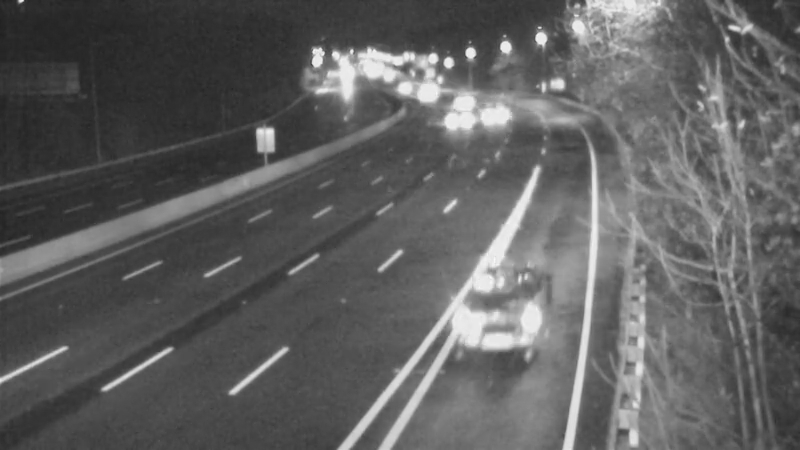vehicle: (439, 274, 549, 384), (374, 61, 424, 111), (403, 71, 453, 121), (431, 76, 481, 126), (467, 97, 517, 147), (432, 97, 482, 147)
